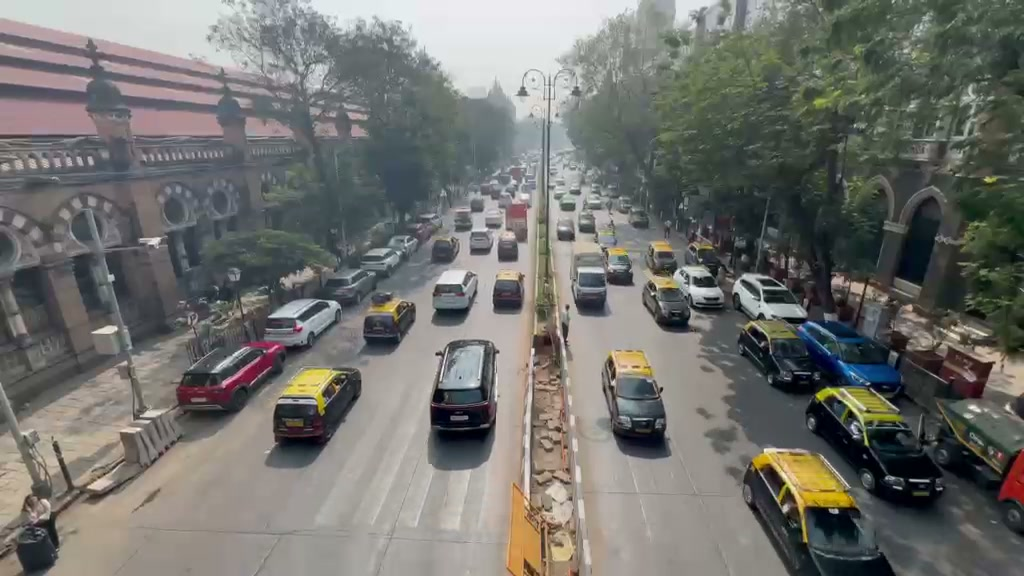bus: (889, 303, 1001, 399)
car: (797, 319, 905, 399), (175, 341, 287, 415), (271, 366, 363, 444), (430, 339, 500, 438), (600, 348, 668, 440), (737, 316, 819, 392), (262, 296, 341, 350), (733, 273, 809, 323), (361, 291, 417, 346), (318, 265, 378, 307), (674, 264, 726, 311), (996, 446, 1023, 536), (642, 283, 693, 328), (431, 267, 479, 313), (572, 261, 610, 313), (492, 270, 525, 314), (430, 236, 459, 263), (468, 229, 493, 254)
truck: (741, 446, 885, 575), (804, 383, 946, 503), (887, 305, 1001, 400)
